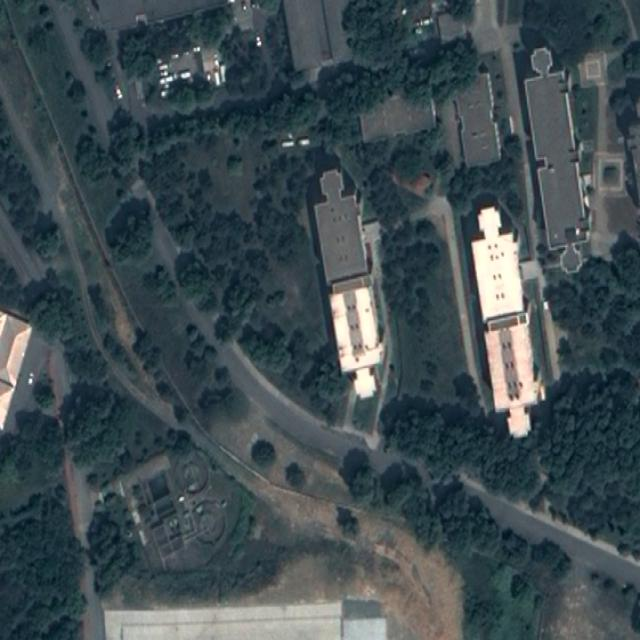Batiment: (315, 170, 384, 398), (471, 208, 539, 437), (525, 48, 585, 273), (104, 599, 386, 640), (284, 0, 351, 70), (0, 311, 31, 428)
